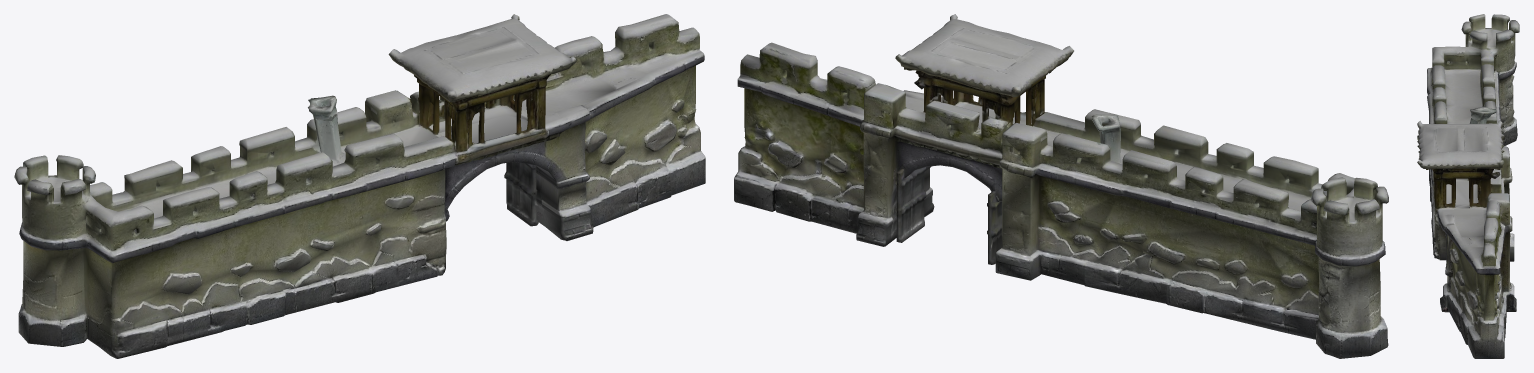
File: chengqiang-chengmen.fbx
3 views of the same model, side by side, from view 1: azimuth 30°, elevation 25°; view 2: azimuth 150°, elevation 25°; view 3: azimuth 270°, elevation 25° (orthographic). The views are drawn at different scales.
Parts seen in each view (by area): view 1: tripo_node_68b0dcc4; view 2: tripo_node_68b0dcc4; view 3: tripo_node_68b0dcc4.
Part boxes in pixels (x1,y1,x2,y2): tripo_node_68b0dcc4: (14, 14, 705, 358); tripo_node_68b0dcc4: (734, 14, 1388, 358); tripo_node_68b0dcc4: (1417, 14, 1519, 358).
Size of the model in its own units: 100 by 18.59 by 27.98.
1 material, 1 textured.
